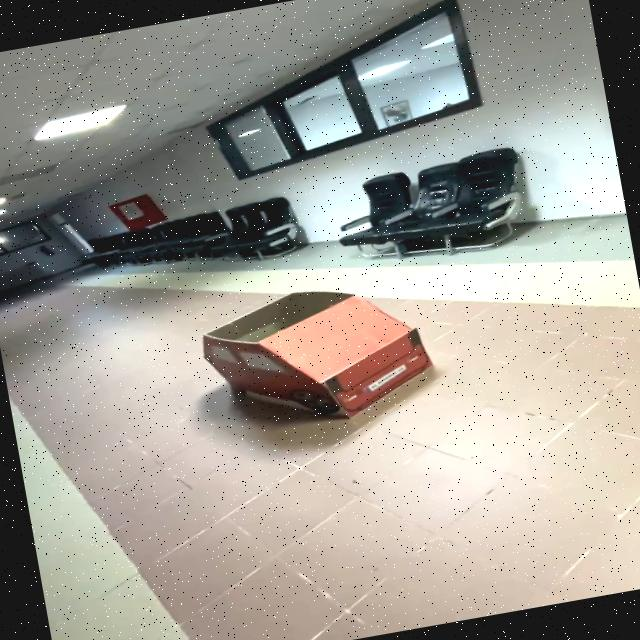red_car: (169, 254, 465, 463)
